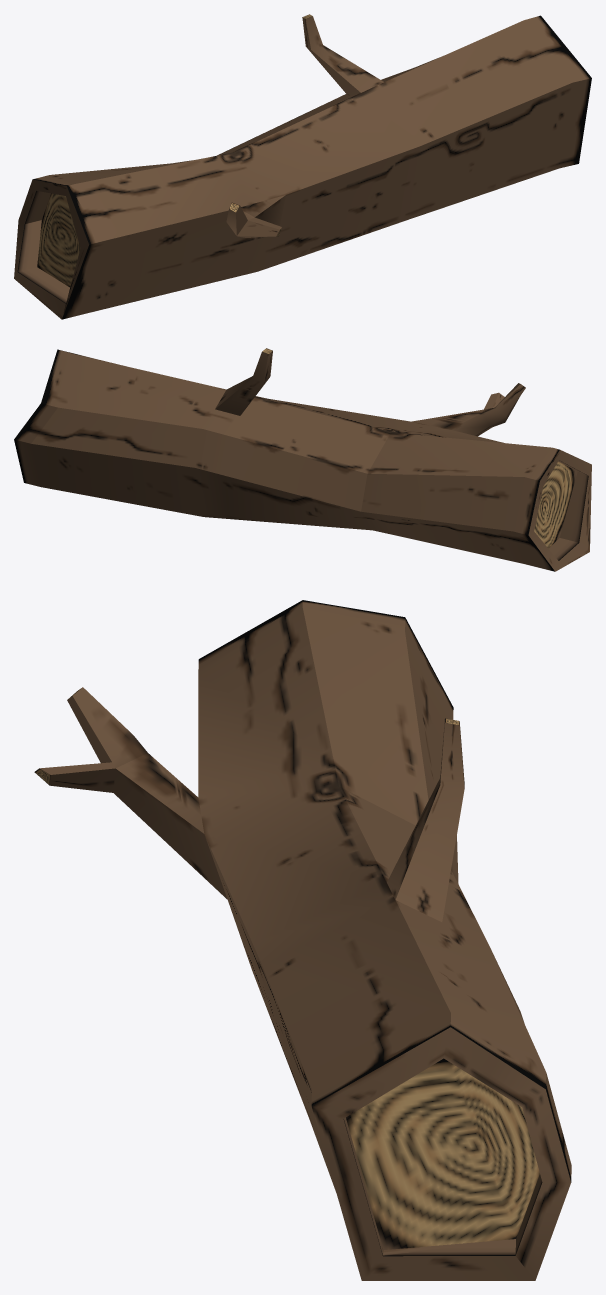
File: kłoda1.fbx
The picture shows the model from 3 angles, top to bottom: view 1: azimuth 30°, elevation 25°; view 2: azimuth 150°, elevation 25°; view 3: azimuth 270°, elevation 25°; orthographic projection. The views are drawn at different scales.
Visible parts, largest first — view 1: kłoda1; view 2: kłoda1; view 3: kłoda1.
Part boxes in pixels (x1,y1,x2,y2): kłoda1: (14,14,591,319); kłoda1: (14,348,591,571); kłoda1: (34,600,571,1280).
Size of the model in its own units: 321 by 106 by 149.
1 material, 1 textured.
